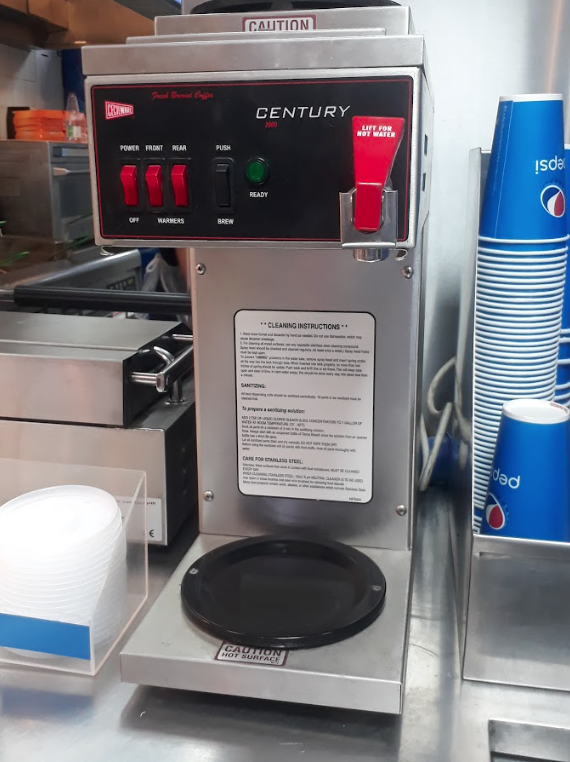Coffee Maker: (50, 8, 443, 737)
